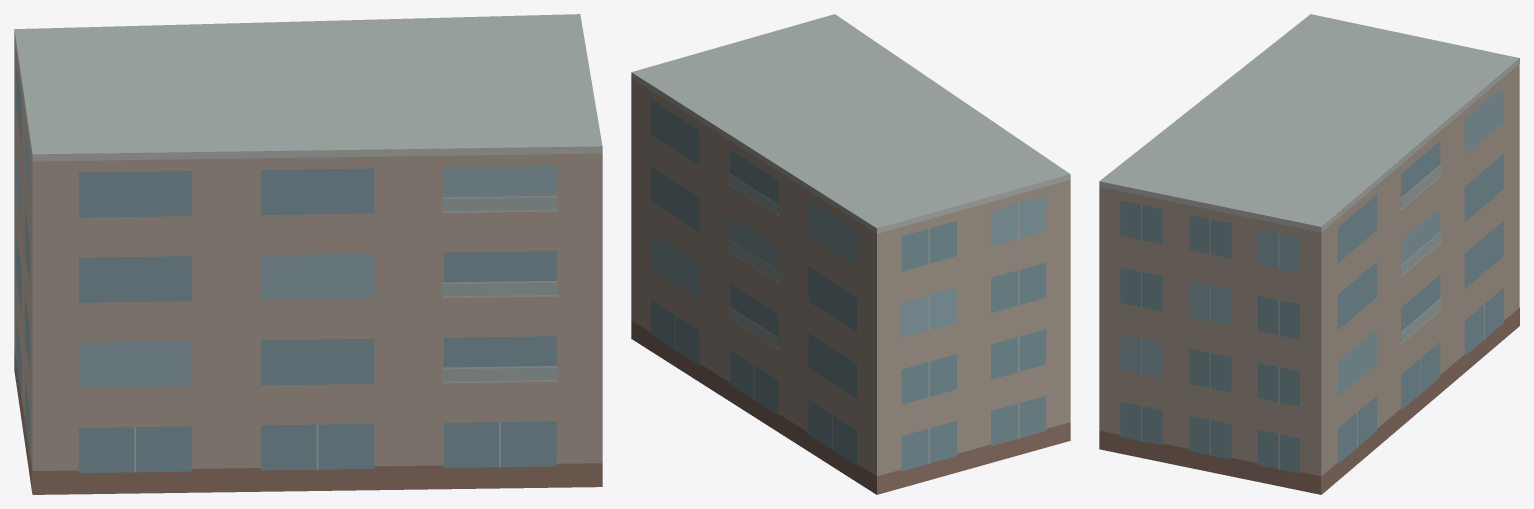
The model's file is survey-upis-32890203.glb.
3 renders of one model, left to right at view 1: azimuth 30°, elevation 25°; view 2: azimuth 150°, elevation 25°; view 3: azimuth 270°, elevation 25°, orthographic. The views are drawn at different scales.
Parts seen in each view (by area): view 1: survey-upis-32890203.tmp; view 2: survey-upis-32890203.tmp; view 3: survey-upis-32890203.tmp.
Boxes of the visible parts, <box> form: survey-upis-32890203.tmp: <box>14,14,602,494</box>; survey-upis-32890203.tmp: <box>631,14,1070,494</box>; survey-upis-32890203.tmp: <box>1099,14,1519,494</box>.
Size of the model in its own units: 19.95 by 11.7 by 16.65.
